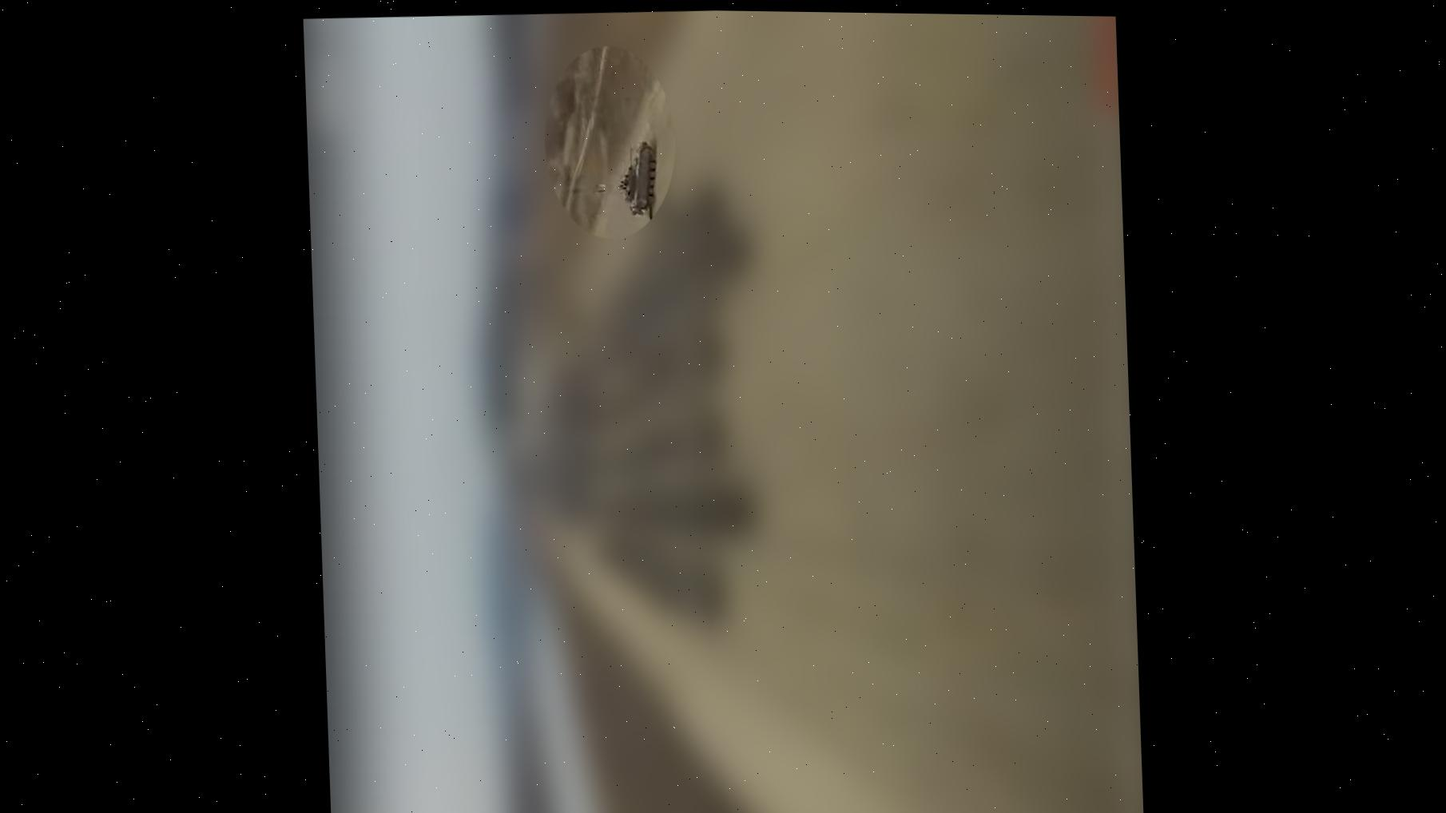armored_car: (613, 133, 677, 237)
